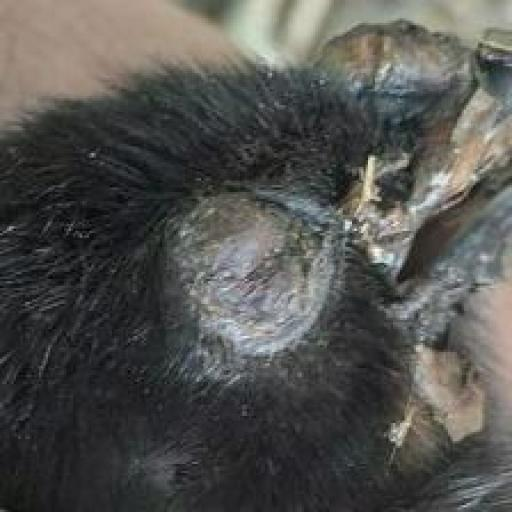disease: (154, 166, 363, 380)
